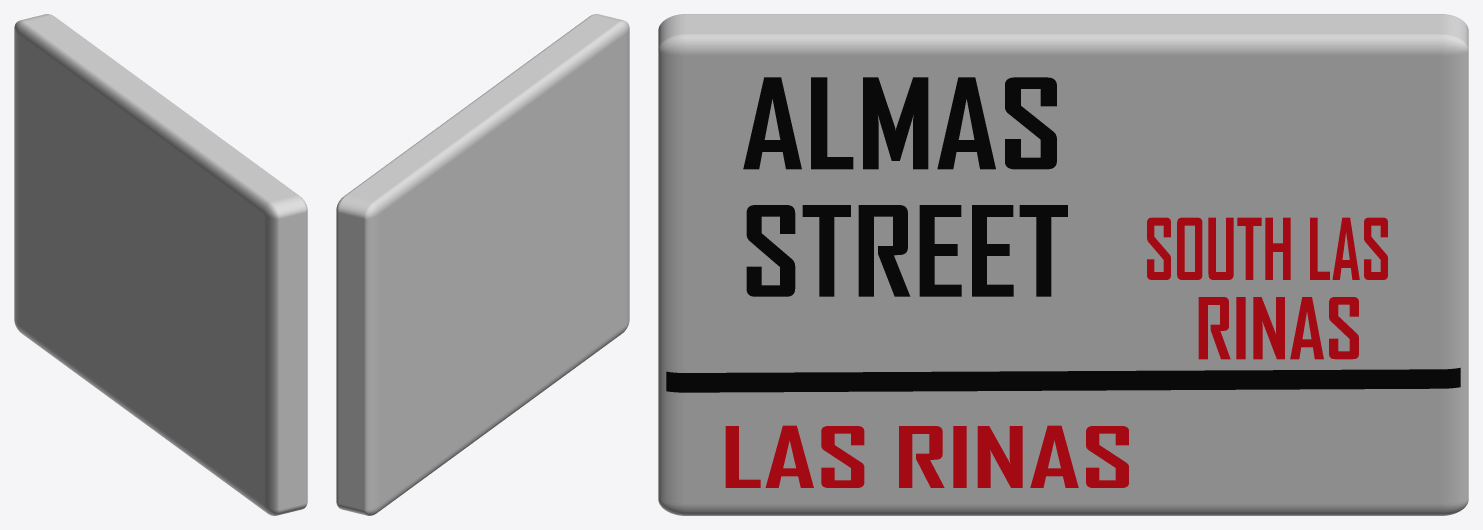
File: uk_styled_street_sign_20.fbx
3 views of the same model, side by side, from view 1: azimuth 30°, elevation 25°; view 2: azimuth 150°, elevation 25°; view 3: azimuth 270°, elevation 25° (orthographic). The views are drawn at different scales.
Parts seen in each view (by area): view 1: Cube; view 2: Cube; view 3: Cube, Text, Text.001, Text.002, Text.003, Text.004.
Boxes of the visible parts, x1,y1,x2,y2 form: Cube: (14, 14, 307, 515); Cube: (336, 14, 629, 515); Cube: (658, 14, 1468, 515); Text: (743, 77, 1056, 169); Text.001: (746, 205, 1067, 296); Text.002: (725, 425, 1128, 487); Text.003: (1147, 217, 1387, 279); Text.004: (1198, 297, 1358, 359).
Bounding box in the file's own units: 1.63 × 11.91 × 18.18.
